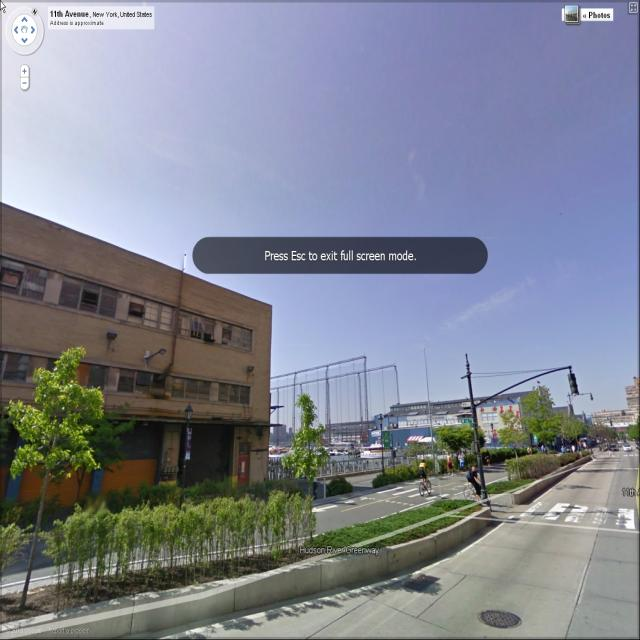b_1: (0, 195, 273, 498), (368, 375, 546, 478), (590, 404, 640, 448), (620, 371, 640, 409)
